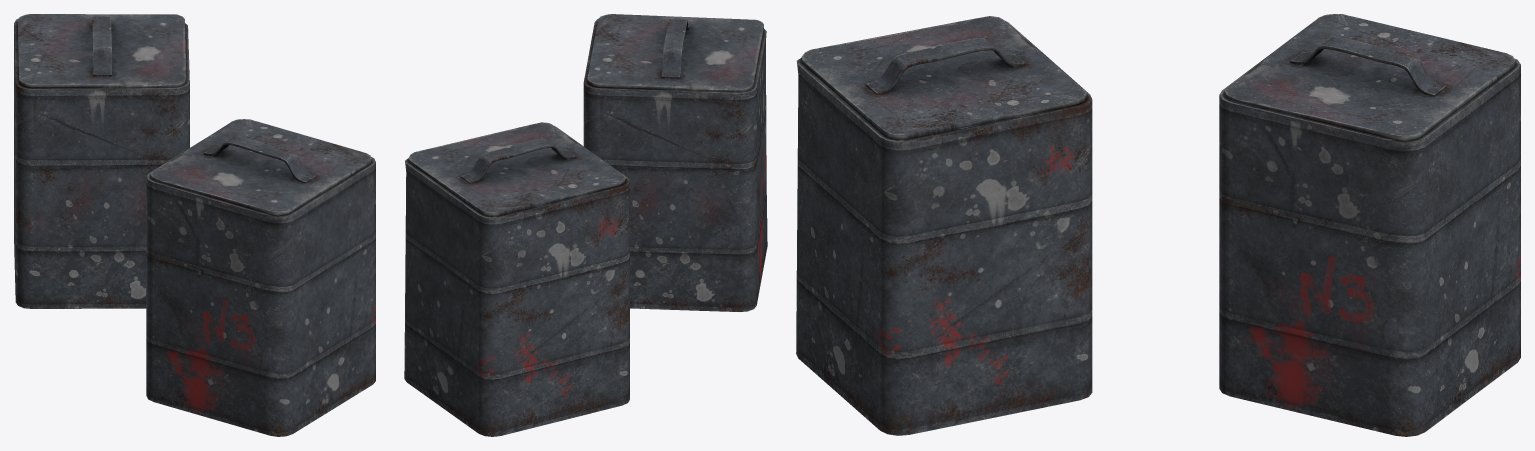
Rendered from canister.glb.
The picture shows the model from 3 angles, left to right: view 1: azimuth 30°, elevation 25°; view 2: azimuth 150°, elevation 25°; view 3: azimuth 270°, elevation 25°; orthographic projection. The views are drawn at different scales.
Visible parts, largest first — view 1: bottom_low, bottom_low.001, cover_low, cover_low.001, handle_low, handle_low.001; view 2: bottom_low.001, bottom_low, cover_low, cover_low.001, handle_low.001, handle_low; view 3: bottom_low.001, bottom_low, cover_low.001, cover_low, handle_low.001, handle_low.
Boxes of the visible parts, x1,y1,x2,y2 form: bottom_low: (146, 138, 375, 436); bottom_low.001: (14, 19, 189, 308); cover_low: (150, 119, 371, 215); cover_low.001: (17, 14, 186, 88); handle_low: (204, 136, 316, 183); handle_low.001: (92, 17, 111, 76); bottom_low.001: (404, 126, 629, 436); bottom_low: (583, 19, 767, 311); cover_low: (587, 14, 763, 92); cover_low.001: (408, 122, 625, 216); handle_low.001: (460, 138, 575, 183); handle_low: (661, 19, 689, 78); bottom_low.001: (1219, 21, 1520, 436); bottom_low: (796, 20, 1092, 435); cover_low.001: (1224, 14, 1515, 140); cover_low: (801, 16, 1086, 139); handle_low.001: (1290, 36, 1446, 96); handle_low: (865, 37, 1025, 94).
Bounding box in the file's own units: 0.4244 × 0.5021 × 1.02.
1 material, 1 textured.
